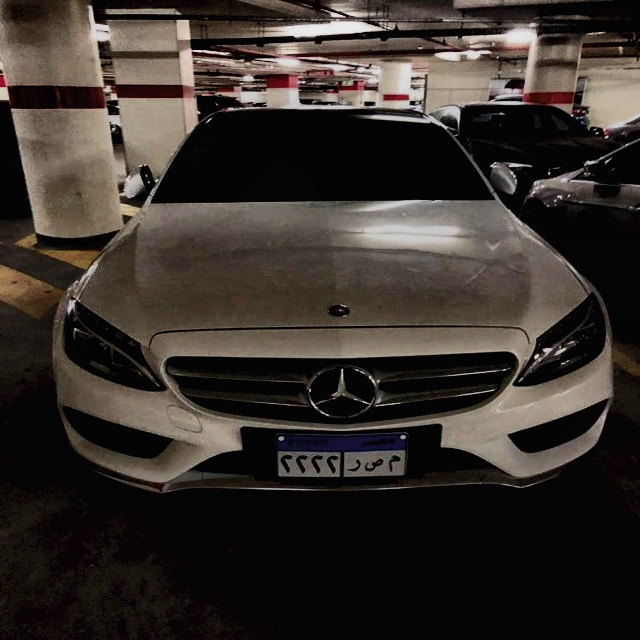License Plate: (273, 430, 411, 480)
